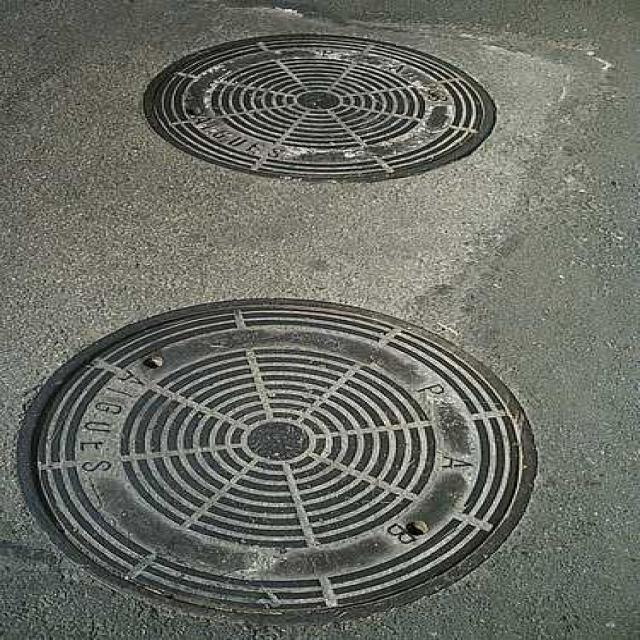manhole: (20, 299, 537, 619), (143, 35, 495, 179)
